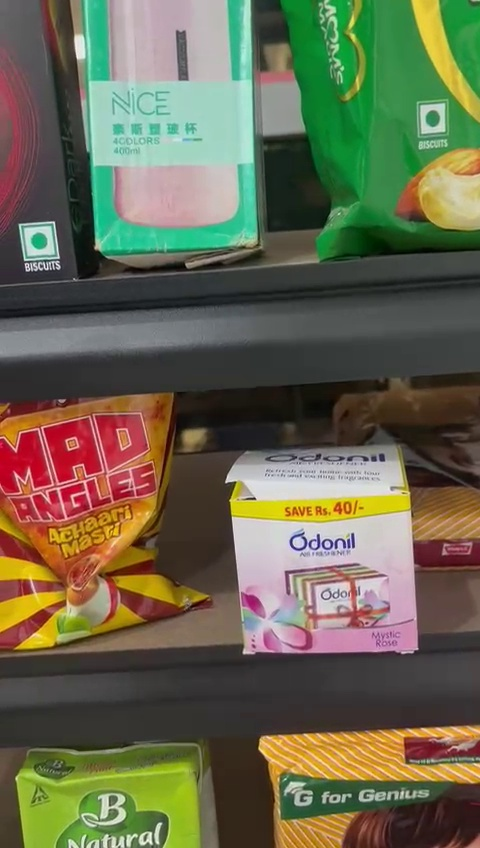Odonil: (230, 452, 422, 668)
